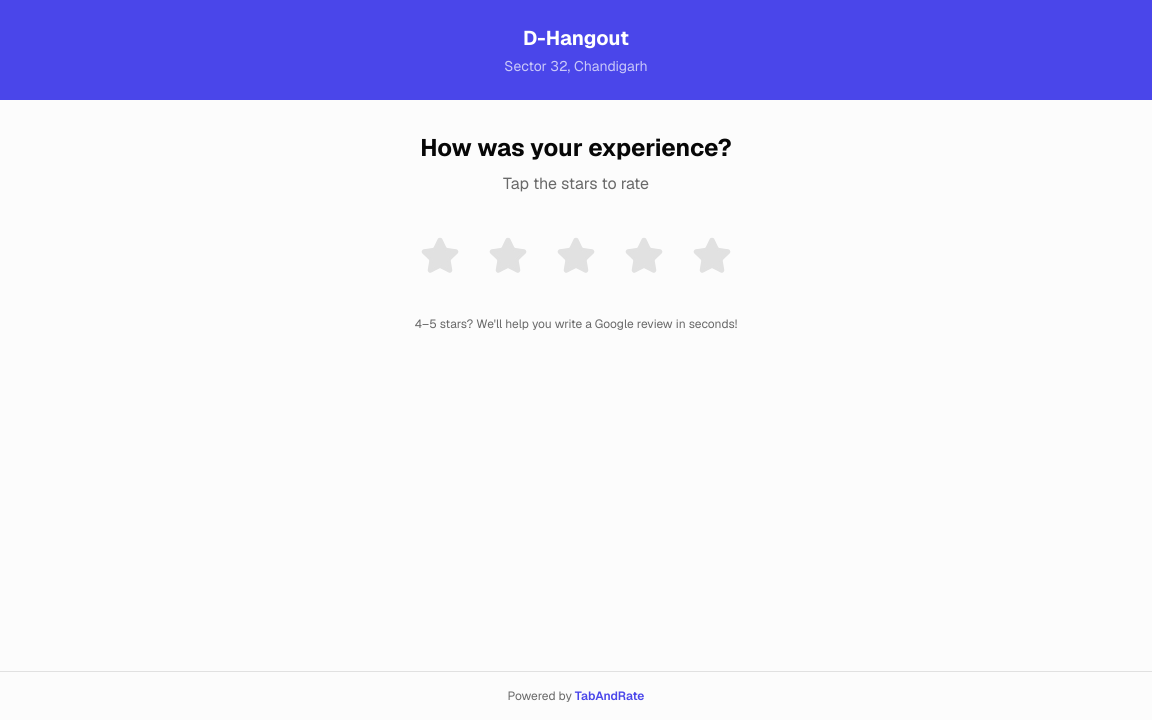
Test: CustomerFunnel Component Tests › advances to tag selection when 4 or 5 stars are selected
The width and height of the screenshot is (1152, 720).
// Click 5th star
Step 1. Click the button named "5 star" → [712, 256], box [684,228,740,284]
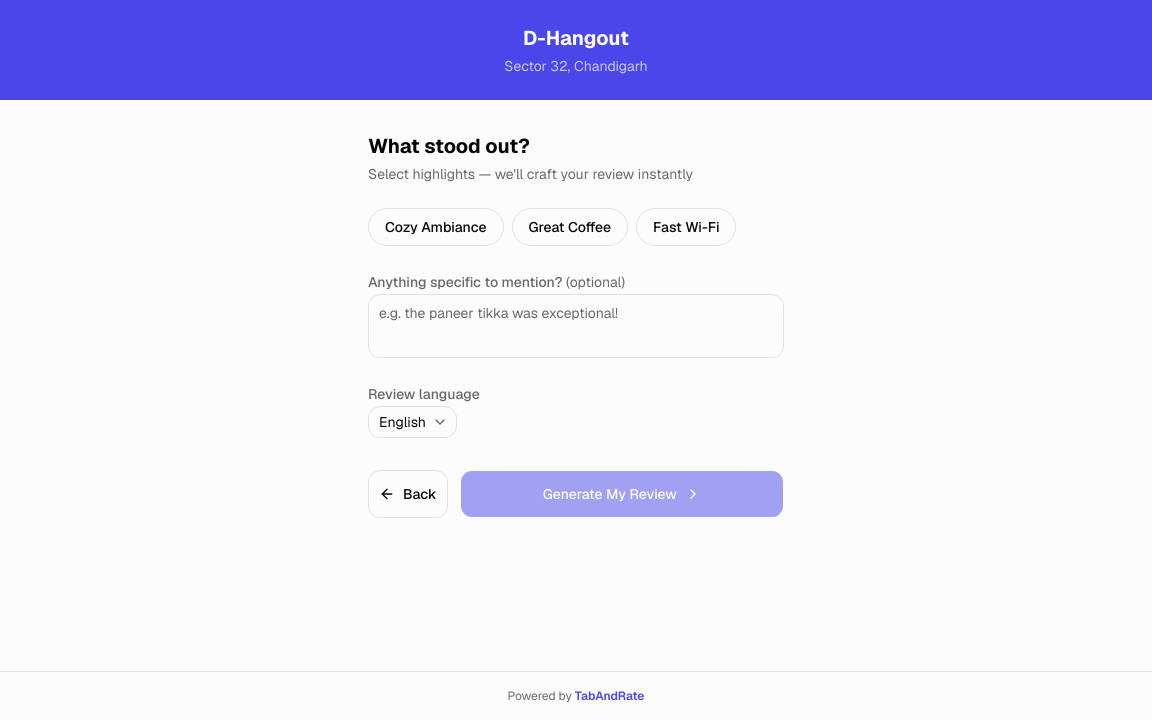
expect the heading "What stood out?" is shown: met, box [368,133,530,159]
expect the button "Cozy Ambiance" is shown: met, box [368,208,504,246]
expect the button "Great Coffee" is shown: met, box [512,208,628,246]
